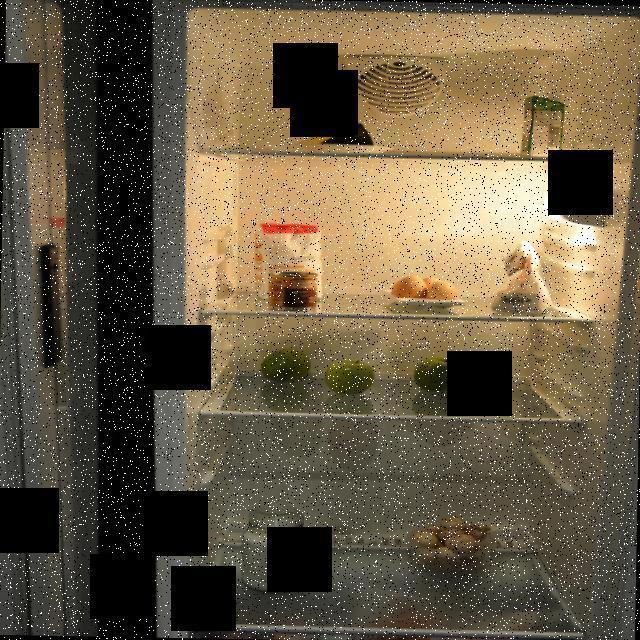apple: (412, 352, 466, 396), (322, 355, 378, 397), (259, 344, 312, 387)
cheese: (296, 120, 376, 150)
corn: (268, 270, 320, 312)
egg: (387, 273, 459, 307)
flour: (488, 240, 557, 316)
heavy_cream: (518, 92, 568, 160)
mushrooms: (404, 514, 502, 572)
sugar: (238, 501, 310, 594), (252, 221, 326, 301)
